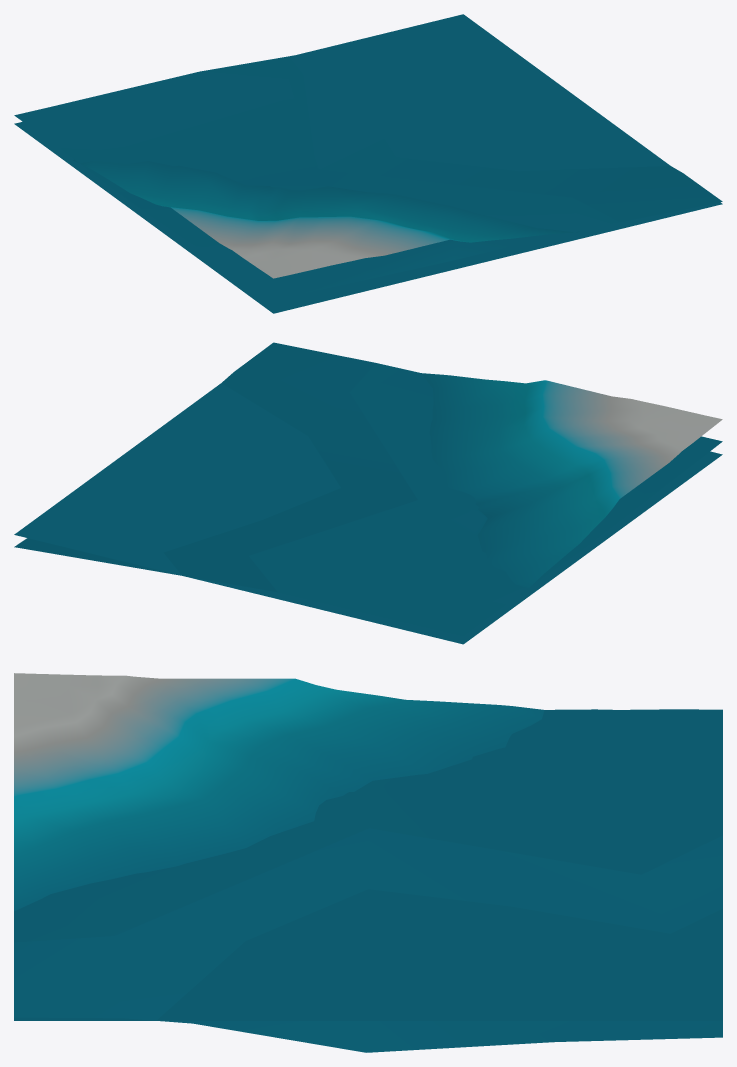
3 renders of one model, top to bottom at view 1: azimuth 30°, elevation 25°; view 2: azimuth 150°, elevation 25°; view 3: azimuth 270°, elevation 25°, orthographic. The views are drawn at different scales.
Visible parts, largest first — view 1: G:\FFXIV-MapTools\exports\s1f3\bg\ffxiv\sea_s1\fld\s1f3\bgpl (×5); view 2: G:\FFXIV-MapTools\exports\s1f3\bg\ffxiv\sea_s1\fld\s1f3\bgpl (×5); view 3: G:\FFXIV-MapTools\exports\s1f3\bg\ffxiv\sea_s1\fld\s1f3\bgpl (×5).
Part boxes in pixels (x1,y1,x2,y2): G:\FFXIV-MapTools\exports\s1f3\bg\ffxiv\sea_s1\fld\s1f3\bgpl (×5): [14, 14, 722, 313]; G:\FFXIV-MapTools\exports\s1f3\bg\ffxiv\sea_s1\fld\s1f3\bgpl (×5): [14, 342, 722, 644]; G:\FFXIV-MapTools\exports\s1f3\bg\ffxiv\sea_s1\fld\s1f3\bgpl (×5): [14, 673, 722, 1052].
Size of the model in its own units: 128 by 15.95 by 128.
